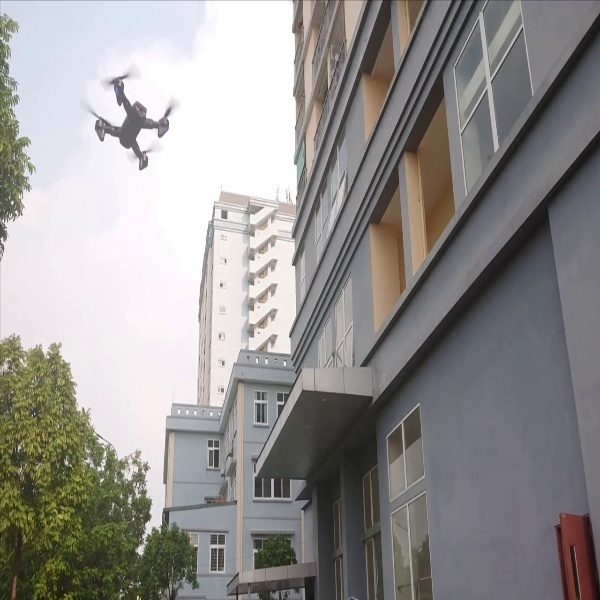drone: (74, 60, 183, 174)
